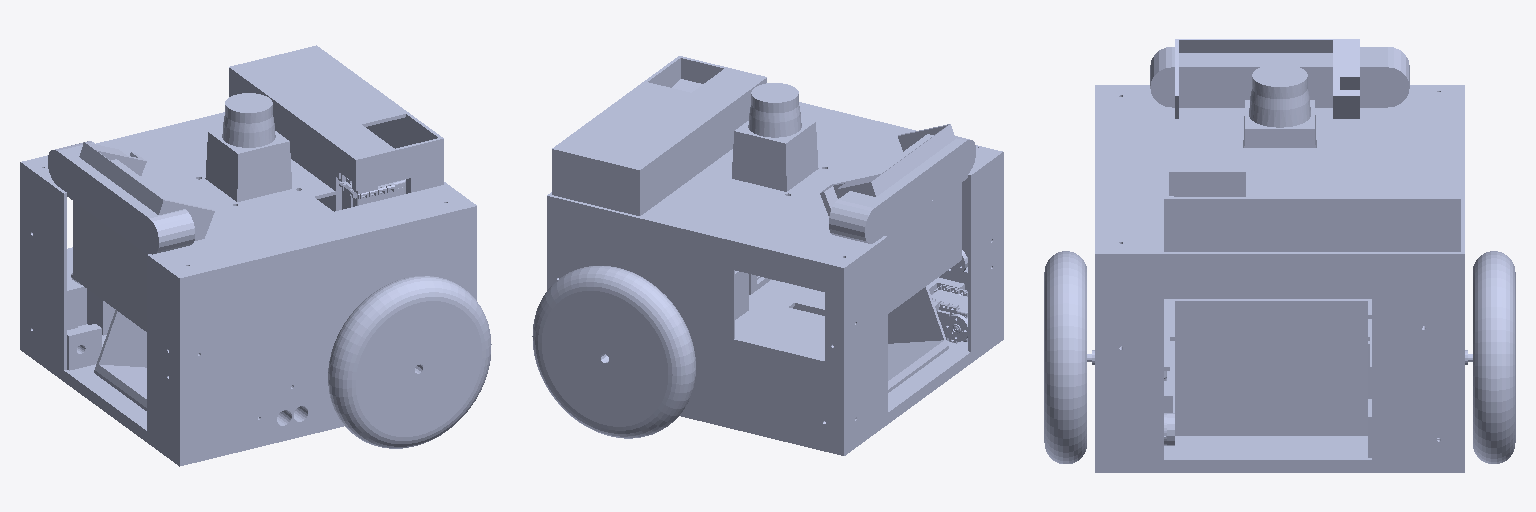
URDF robot description (tnbd_proto5):
<?xml version="1.0" encoding="utf-8"?>
<!-- This URDF was automatically created by SolidWorks to URDF Exporter! Originally created by [author] ([email redacted]) 
     Commit Version: 1.6.0-1-g15f4949  Build Version: 1.6.7594.29634
     For more information, please see http://wiki.ros.org/sw_urdf_exporter -->
<robot
  name="tnbd_proto5">
  
  <link name="base_footprint"/>

  <joint name="base_joint" type="fixed">
    <parent link="base_footprint"/>
    <child link="base_link" />
    <origin xyz="-0.0132838481327496 -0.0190930870578007 -0.0165104491009677" rpy="0 0 0"/>
  </joint>
  
  <link
    name="base_link">
    <inertial>
      <origin
        xyz="-0.0132838481327496 -0.0190930870578007 -0.0165104491009677"
        rpy="0 0 0" />
      <mass
        value="3.7957706513723" />
      <inertia
        ixx="0.00950859854730406"
        ixy="-4.41730297888481E-05"
        ixz="-0.000343960615753147"
        iyy="0.0158229672701287"
        iyz="-0.000165763768209665"
        izz="0.00921433640228063" />
    </inertial>

    <visual>
      <origin
        xyz="0 0 0"
        rpy="0 0 0" />
      <geometry>
        <mesh
          filename="package://tnbd_proto5/meshes/base_link.STL" />
      </geometry>
      <material
        name="">
        <color
          rgba="0.792156862745098 0.819607843137255 0.933333333333333 1" />
      </material>
    </visual>

    <collision>
      <origin
        xyz="0 0 0"
        rpy="0 0 0" />
      <geometry>
        <mesh
          filename="package://tnbd_proto5/meshes/base_link.STL" />
      </geometry>
    </collision>
  </link>

  <link
    name="imu_link">
    <inertial>
      <origin
        xyz="0.0181792859189744 -0.0180446037108739 -0.00915949193269541"
        rpy="0 0 0" />
      <mass
        value="5.58945396958244" />
      <inertia
        ixx="0.0706069099783617"
        ixy="0.00176282510614155"
        ixz="-0.0018306699801391"
        iyy="0.0559399155032469"
        iyz="3.5959490626091E-05"
        izz="0.0859762996284468" />
    </inertial>
    <visual>
      <origin
        xyz="0 0 0"
        rpy="0 0 0" />
      <geometry>
        <mesh
          filename="package://tnbd_proto5/meshes/opencr_link.STL" />
      </geometry>
      <material
        name="">
        <color
          rgba="0.792156862745098 0.819607843137255 0.933333333333333 1" />
      </material>
    </visual>
    <collision>
      <origin
        xyz="0 0 0"
        rpy="0 0 0" />
      <geometry>
        <mesh
          filename="package://tnbd_proto5/meshes/opencr_link.STL" />
      </geometry>
    </collision>
  </link>

  <joint
    name="imu_joint"
    type="fixed">
    <origin
      xyz="0 0 0"
      rpy="0 0 -3.1416" />
    <parent
      link="base_link" />
    <child
      link="imu_link" />
    <axis
      xyz="0 0 0" />
  </joint>

  <link
    name="base_scan">
    <inertial>
      <origin
        xyz="1.33939688298779E-08 1.11156738327733E-09 0.0293857857356866"
        rpy="0 0 0" />
      <mass
        value="0.131767415545665" />
      <inertia
        ixx="6.95670084224573E-05"
        ixy="-9.59372993136472E-12"
        ixz="-5.29717288286889E-11"
        iyy="6.95671229244128E-05"
        iyz="-4.39613134958735E-12"
        izz="4.47644343972088E-05" />
    </inertial>
    <visual>
      <origin
        xyz="0 0 0"
        rpy="0 0 0" />
      <geometry>
        <mesh
          filename="package://tnbd_proto5/meshes/lidar_link.STL" />
      </geometry>
      <material
        name="">
        <color
          rgba="0.792156862745098 0.819607843137255 0.933333333333333 1" />
      </material>
    </visual>
    <collision>
      <origin
        xyz="0 0 0"
        rpy="0 0 0" />
      <geometry>
        <mesh
          filename="package://tnbd_proto5/meshes/lidar_link.STL" />
      </geometry>
    </collision>
  </link>

  <joint
    name="scan_joint"
    type="fixed">
    <origin
      xyz="-0.035043 0.0083315 0.077"
      rpy="0 0 0" />
    <parent
      link="base_link" />
    <child
      link="base_scan" />
    <axis
      xyz="0 0 0" />
  </joint>

  <link
    name="camera_link">
    <inertial>
      <origin
        xyz="-7.28583859910259E-17 -2.45869130610643E-10 0.0165"
        rpy="0 0 0" />
      <mass
        value="0.166876325452904" />
      <inertia
        ixx="2.72223823415769E-05"
        ixy="-2.61442992112773E-19"
        ixz="-4.0025793714912E-19"
        iyy="0.000412109193003404"
        iyz="4.56820486978475E-14"
        izz="0.000409043522275279" />
    </inertial>
    <visual>
      <origin
        xyz="0 0 0"
        rpy="0 0 0" />
      <geometry>
        <mesh
          filename="package://tnbd_proto5/meshes/camera_link.STL" />
      </geometry>
      <material
        name="">
        <color
          rgba="0.792156862745098 0.819607843137255 0.933333333333333 1" />
      </material>
    </visual>
    <collision>
      <origin
        xyz="0 0 0"
        rpy="0 0 0" />
      <geometry>
        <mesh
          filename="package://tnbd_proto5/meshes/camera_link.STL" />
      </geometry>
    </collision>
  </link>

  <joint
    name="camera_joint"
    type="fixed">
    <origin
      xyz="-0.13404 0.0083315 0.092"
      rpy="-1.5708 0 1.5708" />
    <parent
      link="base_link" />
    <child
      link="camera_link" />
    <axis
      xyz="0 0 0" />
  </joint>

  <link
    name="wheel_left_link">
    <inertial>
      <origin
        xyz="6.93889390390723E-18 1.04083408558608E-16 0.0145"
        rpy="0 0 0" />
      <mass
        value="0.431849530870227" />
      <inertia
        ixx="0.000547310482911071"
        ixy="-5.42101086242752E-20"
        ixz="-5.92617666524064E-20"
        iyy="0.000547310482911071"
        iyz="1.72887652250329E-19"
        izz="0.00103898710950625" />
    </inertial>

    <visual>
      <origin
        xyz="0 0 0"
        rpy="0 0 0" />
      <geometry>
        <mesh
          filename="package://tnbd_proto5/meshes/left_wheel_link.STL" />
      </geometry>
      <material
        name="">
        <color
          rgba="0.792156862745098 0.819607843137255 0.933333333333333 1" />
      </material>
    </visual>
    
    <collision>
      <origin
        xyz="0 0 0"
        rpy="0 0 0" />
      <geometry>
        <mesh
          filename="package://tnbd_proto5/meshes/left_wheel_link.STL" />
      </geometry>
    </collision>
  </link>

  <joint
    name="wheel_left_joint"
    type="continuous">
    <origin
      xyz="0.027457 -0.12147 -0.0339"
      rpy="-1.5708 0.62286 -3.1416" />
    <parent
      link="base_link" />
    <child
      link="wheel_left_link" />
    <axis
      xyz="0 0 1" />
  </joint>

  <link
    name="wheel_right_link">
    <inertial>
      <origin
        xyz="-6.93889390390723E-18 1.38777878078145E-17 -0.0145000000000001"
        rpy="0 0 0" />
      <mass
        value="0.431849530870227" />
      <inertia
        ixx="0.000547310482911071"
        ixy="-8.470329472543E-22"
        ixz="2.71760684914867E-19"
        iyy="0.000547310482911071"
        iyz="-6.4483437318162E-19"
        izz="0.00103898710950625" />
    </inertial>
    <visual>
      <origin
        xyz="0 0 0"
        rpy="0 0 0" />
      <geometry>
        <mesh
          filename="package://tnbd_proto5/meshes/right_wheel_link.STL" />
      </geometry>
      <material
        name="">
        <color
          rgba="0.792156862745098 0.819607843137255 0.933333333333333 1" />
      </material>
    </visual>
    <collision>
      <origin
        xyz="0 0 0"
        rpy="0 0 0" />
      <geometry>
        <mesh
          filename="package://tnbd_proto5/meshes/right_wheel_link.STL" />
      </geometry>
    </collision>
  </link>

  <joint
    name="wheel_right_joint"
    type="continuous">
    <origin
      xyz="0.027457 0.13813 -0.0339"
      rpy="1.5708 -0.0072638 0" />
    <parent
      link="base_link" />
    <child
      link="wheel_right_link" />
    <axis
      xyz="0 0 1" />
  </joint>

  <link
    name="front_link">
    <inertial>
      <origin
        xyz="-0.102550444822188 0.018636276309949 -0.0499420238037541"
        rpy="0 0 0" />
      <mass
        value="0.273534418315026" />
      <inertia
        ixx="0.00033404367279413"
        ixy="-5.02928734296202E-07"
        ixz="1.34776273983522E-06"
        iyy="0.000793983435909688"
        iyz="6.47618301935969E-05"
        izz="0.000552792585022654" />
    </inertial>
    <visual>
      <origin
        xyz="0 0 0"
        rpy="0 0 0" />
      <geometry>
        <mesh
          filename="package://tnbd_proto5/meshes/front_link.STL" />
      </geometry>
      <material
        name="">
        <color
          rgba="0.792156862745098 0.819607843137255 0.933333333333333 1" />
      </material>
    </visual>
    <collision>
      <origin
        xyz="0 0 0"
        rpy="0 0 0" />
      <geometry>
        <mesh
          filename="package://tnbd_proto5/meshes/front_link.STL" />
      </geometry>
    </collision>
  </link>

  <joint
    name="front_joint"
    type="revolute">
    <origin
      xyz="-0.15554 0 0"
      rpy="2.7278 0 -1.5708" />
    <parent
      link="base_link" />
    <child
      link="front_link" />
    <axis
      xyz="1 0 0" />
    <limit
      lower="0"
      upper="2.000321"
      effort="0"
      velocity="0" />
  </joint>

  <link
    name="feed_link">
    <inertial>
      <origin
        xyz="-0.0165698438786769 -2.42861286636753E-17 0.000749999999999952"
        rpy="0 0 0" />
      <mass
        value="0.00143426215563702" />
      <inertia
        ixx="5.89380670397772E-08"
        ixy="-8.76811449306209E-23"
        ixz="-5.93846816642546E-22"
        iyy="2.65747442341082E-07"
        iyz="-1.03012219909176E-22"
        izz="3.24147661072495E-07" />
    </inertial>
    <visual>
      <origin
        xyz="0 0 0"
        rpy="0 0 0" />
      <geometry>
        <mesh
          filename="package://tnbd_proto5/meshes/feed_link.STL" />
      </geometry>
      <material
        name="">
        <color
          rgba="0.792156862745098 0.819607843137255 0.933333333333333 1" />
      </material>
    </visual>
    <collision>
      <origin
        xyz="0 0 0"
        rpy="0 0 0" />
      <geometry>
        <mesh
          filename="package://tnbd_proto5/meshes/feed_link.STL" />
      </geometry>
    </collision>
  </link>

  <joint
    name="feed_joint"
    type="revolute">
    <origin
      xyz="0.055457 -0.053668 0.0483"
      rpy="0 0 -0.76563" />
    <parent
      link="base_link" />
    <child
      link="feed_link" />
    <axis
      xyz="0 0 1" />
    <limit
      lower="-0.802851"
      upper="0"
      effort="0"
      velocity="0" />
  </joint>

  <link
    name="back_link">
    <inertial>
      <origin
        xyz="-0.00159581425708968 -0.000320413335076736 -0.0453183052185789"
        rpy="0 0 0" />
      <mass
        value="0.123674446484502" />
      <inertia
        ixx="0.000154119408139331"
        ixy="-2.93115855398967E-08"
        ixz="-4.11144430327962E-06"
        iyy="0.000393040242210134"
        iyz="-6.19011612722762E-06"
        izz="0.000263339818796932" />
    </inertial>
    <visual>
      <origin
        xyz="0 0 0"
        rpy="0 0 0" />
      <geometry>
        <mesh
          filename="package://tnbd_proto5/meshes/back_link.STL" />
      </geometry>
      <material
        name="">
        <color
          rgba="0.792156862745098 0.819607843137255 0.933333333333333 1" />
      </material>
    </visual>
    <collision>
      <origin
        xyz="0 0 0"
        rpy="0 0 0" />
      <geometry>
        <mesh
          filename="package://tnbd_proto5/meshes/back_link.STL" />
      </geometry>
    </collision>
  </link>

  <joint
    name="back_joint"
    type="revolute">
    <origin
      xyz="0.085457 0 -0.06"
      rpy="3.135 0 -1.5708" />
    <parent
      link="base_link" />
    <child
      link="back_link" />
    <axis
      xyz="1 0 0" />
    <limit
      lower="-1.570796"
      upper="0"
      effort="0"
      velocity="0" />
  </joint>

</robot>

--- Render facts (derived) ---
3 views of the same robot in one strip: view 1: azimuth 30°, elevation 25°; view 2: azimuth 150°, elevation 25°; view 3: azimuth 270°, elevation 25° (orthographic).
Robot: tnbd_proto5 — 10 links, 9 joints (3 revolute, 2 continuous, 4 fixed); root link base_footprint; default pose: every joint at zero.
Links seen in each view (by area): view 1: base_link, wheel_left_link, front_link, base_scan, camera_link; view 2: base_link, wheel_right_link, front_link, base_scan, camera_link; view 3: base_link, back_link, camera_link, wheel_left_link, wheel_right_link, base_scan, front_link.
Link boxes in pixels (x1,y1,x2,y2): base_link: (20,45,476,466); wheel_left_link: (328,276,491,448); front_link: (71,142,214,331); base_scan: (205,93,291,201); camera_link: (48,141,194,254); base_link: (547,56,1003,455); wheel_right_link: (532,266,695,438); front_link: (820,124,967,313); base_scan: (732,83,818,191); camera_link: (829,134,975,243); base_link: (1087,85,1472,472); back_link: (1167,299,1367,445); camera_link: (1150,47,1409,107); wheel_left_link: (1044,251,1086,463); wheel_right_link: (1473,251,1515,463); base_scan: (1243,64,1316,147); front_link: (1175,39,1359,118).
Size in the robot's own frame: 0.27 by 0.3176 by 0.253 metres.
Meshes: 9 distinct files referenced, 9 mesh visuals loaded (9 binary STL).